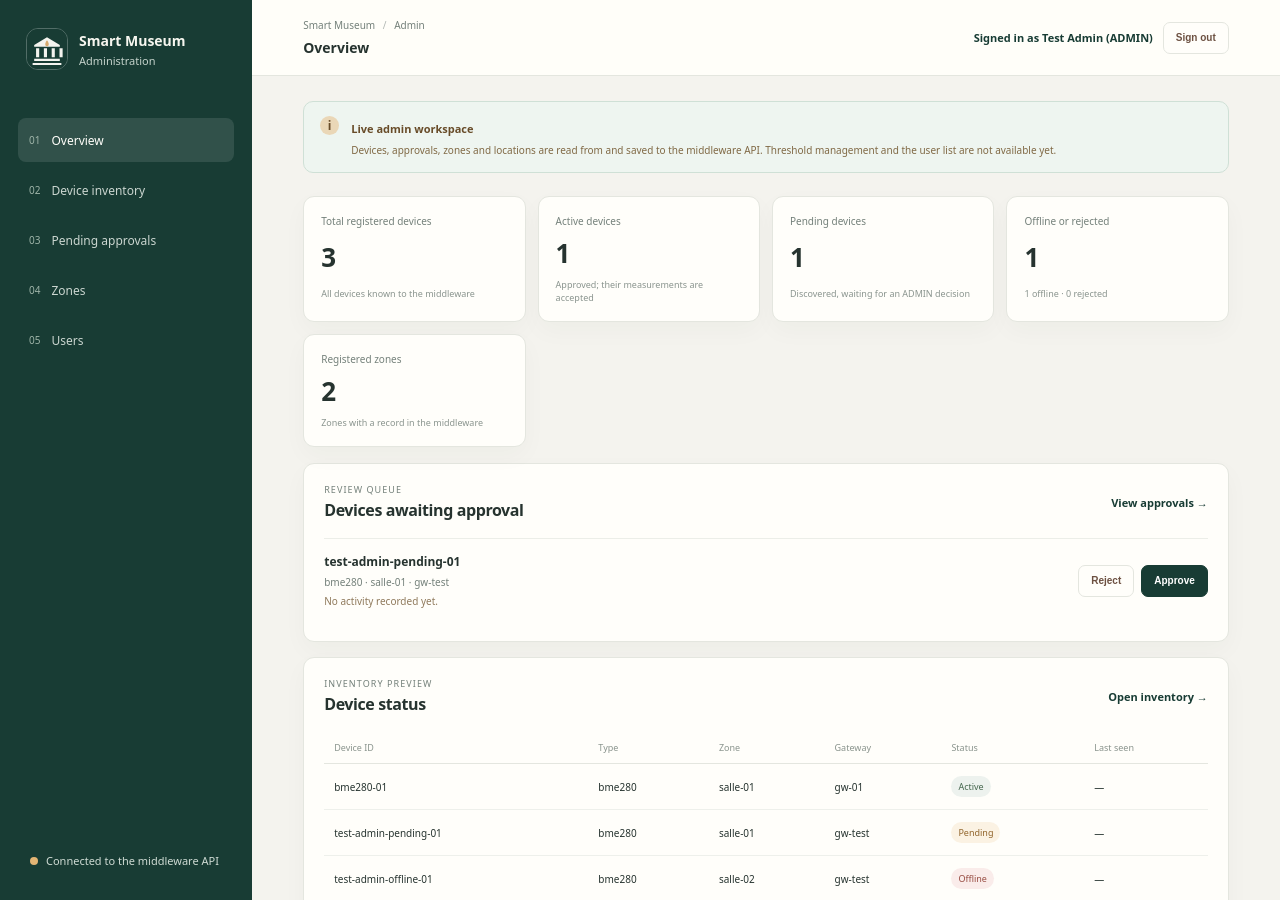
Test case: Thing Description view › is available in device details and reports a missing description
The image size is (1280, 900).
Expected: the text "Total registered devices" is shown, x1=321 y1=214 x2=432 y2=228
What coordinates should you click on to do the following:
click the link "02 Device inventory"
I would click on:
 (87, 190)
Its box is x1=29 y1=182 x2=145 y2=198.
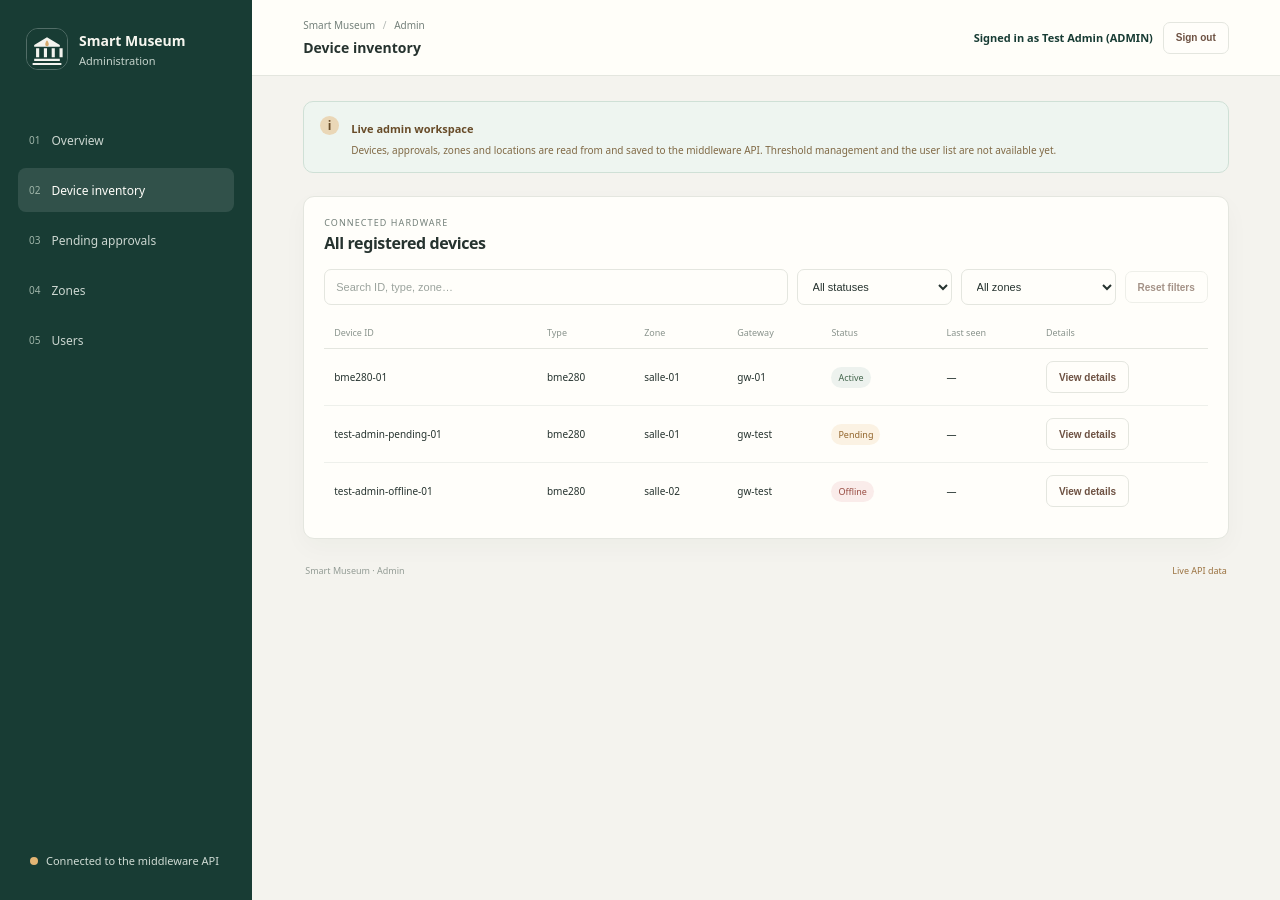
Expected: the link "02 Device inventory" is marked as current, x1=18 y1=168 x2=234 y2=212
What coordinates should you click on to do the following:
click the button "View details" in the row of "test-admin-offline-01"
I would click on:
 (1088, 491)
Its box is x1=1046 y1=475 x2=1129 y2=507.
(page scrolled)
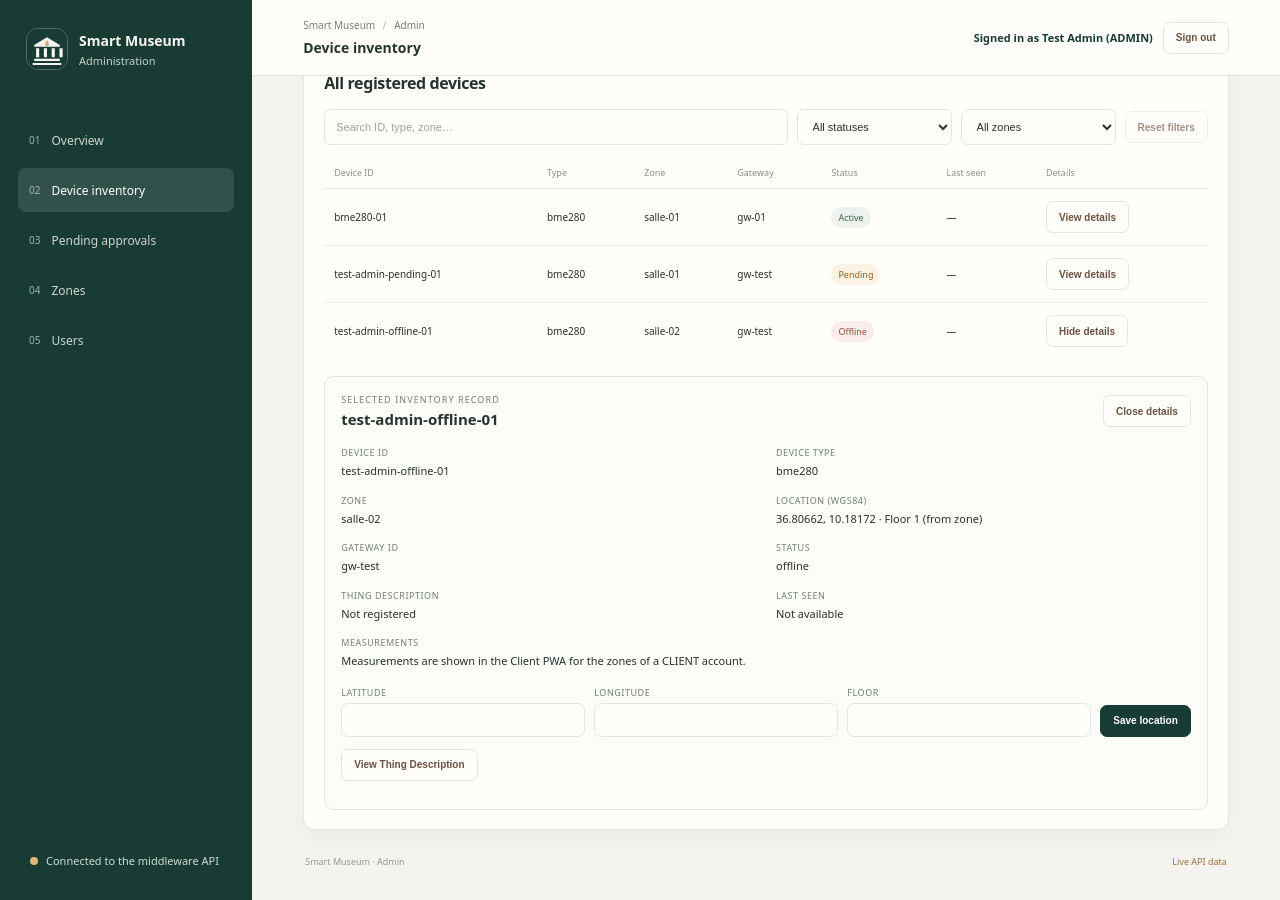
What coordinates should you click on to do the following:
click the button "View Thing Description"
I would click on:
 (409, 764)
Its box is x1=341 y1=748 x2=478 y2=780.
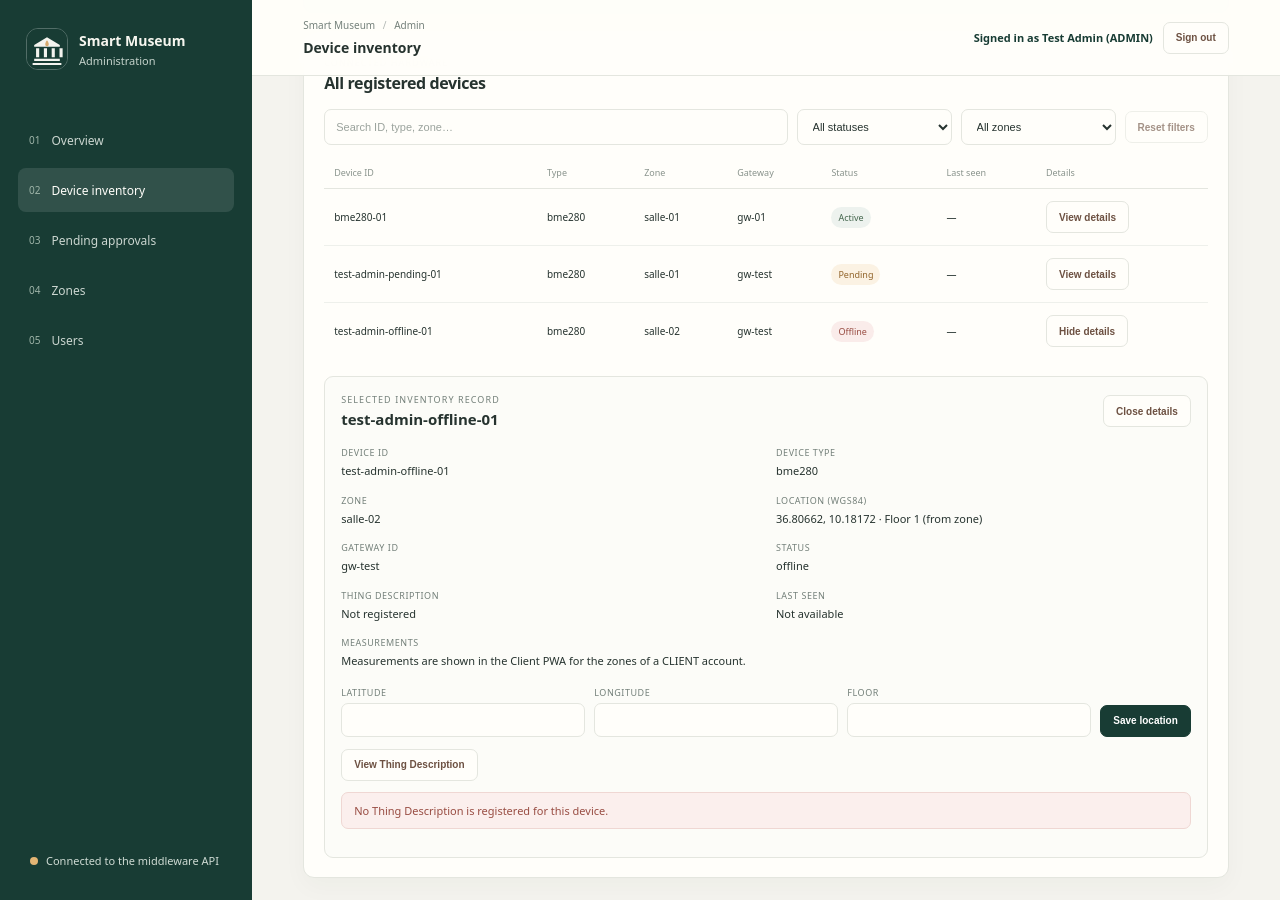
Expected: the message reads "No Thing Description is registered for this device.", x1=354 y1=802 x2=608 y2=818
